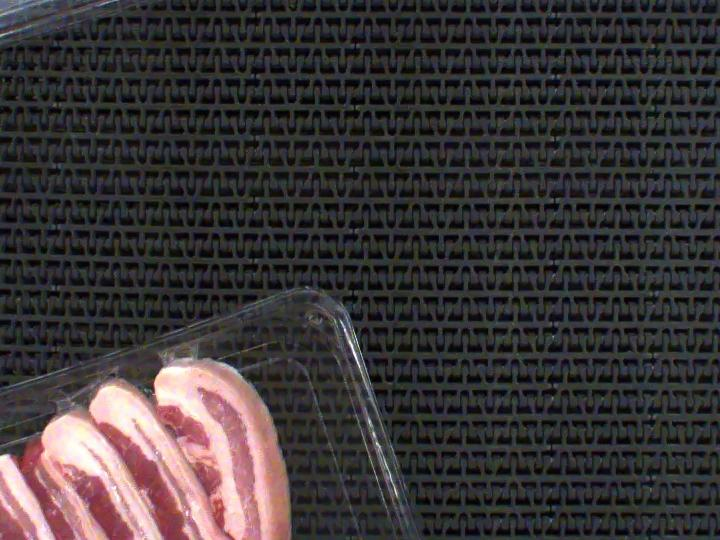packaging-error: (147, 338, 225, 373), (34, 389, 100, 416)
